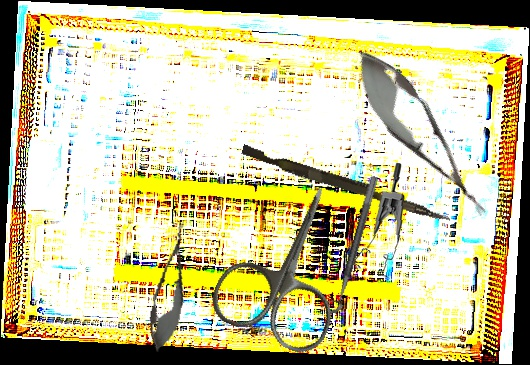Fixation Ring: (319, 171, 380, 318)
Iris Scissors: (204, 165, 378, 361)
Micro Scissor: (338, 37, 504, 229), (142, 219, 198, 355)
Pusher: (239, 144, 454, 224)
Speculum: (346, 161, 411, 281)
